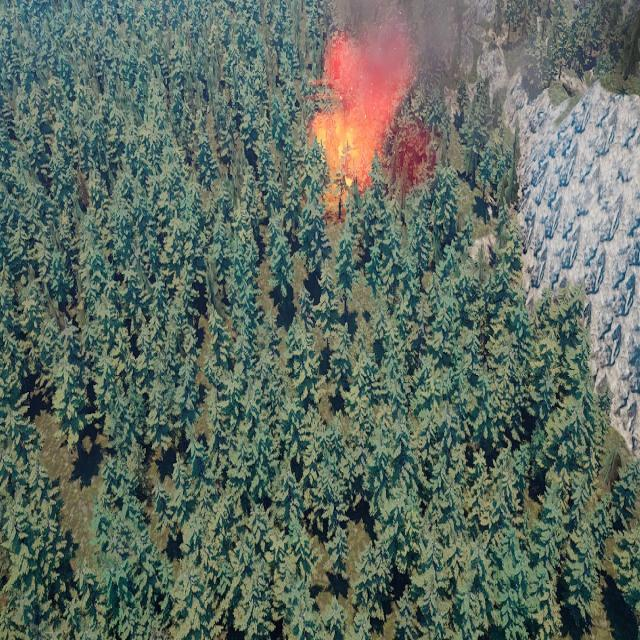fire: (297, 35, 409, 204)
smoke: (311, 1, 511, 192)
